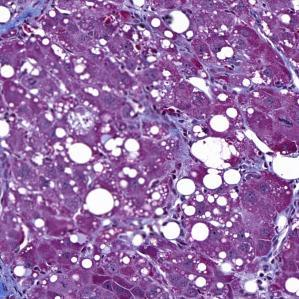fibrosis: (0, 0, 51, 41), (153, 105, 200, 141), (0, 258, 39, 299)
